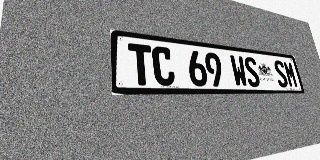6: (186, 50, 208, 86)
9: (204, 52, 225, 87)
C: (151, 46, 176, 86)
M: (283, 61, 299, 88)
S: (243, 56, 261, 87), (272, 60, 289, 87)
T: (128, 43, 154, 86)
W: (229, 55, 249, 87)
